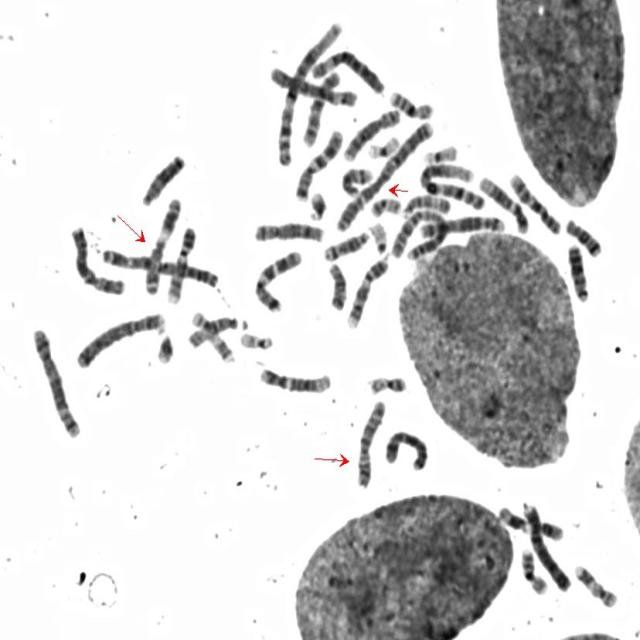A1: (273, 13, 344, 168), (417, 157, 487, 212)
A2: (355, 402, 391, 500), (388, 206, 449, 262)
A3: (335, 122, 443, 230), (97, 242, 220, 288)
B4: (72, 307, 167, 371), (519, 497, 573, 592)
B5: (29, 322, 82, 439), (415, 210, 507, 239)
C10: (506, 168, 562, 236), (299, 65, 343, 149)
C11: (140, 190, 183, 296), (494, 501, 566, 542)
C12: (476, 170, 530, 234), (255, 362, 334, 394)
C6: (266, 61, 359, 108), (308, 45, 386, 94)
C7: (292, 124, 346, 202), (250, 244, 304, 313)
C8: (339, 103, 403, 162), (250, 216, 327, 244)
C9: (344, 253, 390, 330), (164, 221, 199, 305)
D13: (138, 149, 188, 207), (564, 240, 592, 304)
D14: (320, 226, 372, 262), (338, 162, 373, 198)
D15: (183, 310, 240, 350), (399, 189, 453, 217)
E16: (386, 84, 436, 120), (517, 543, 550, 596)
E17: (187, 307, 237, 363), (570, 558, 619, 610)
E18: (562, 214, 604, 258), (325, 258, 349, 312)
F19: (364, 130, 400, 160), (420, 139, 460, 164)
F20: (365, 370, 409, 396), (367, 192, 403, 218)
G21: (153, 327, 176, 365), (306, 186, 328, 222)
G22: (236, 326, 275, 352), (366, 215, 390, 257)
X: (67, 222, 128, 296), (381, 426, 429, 472)
